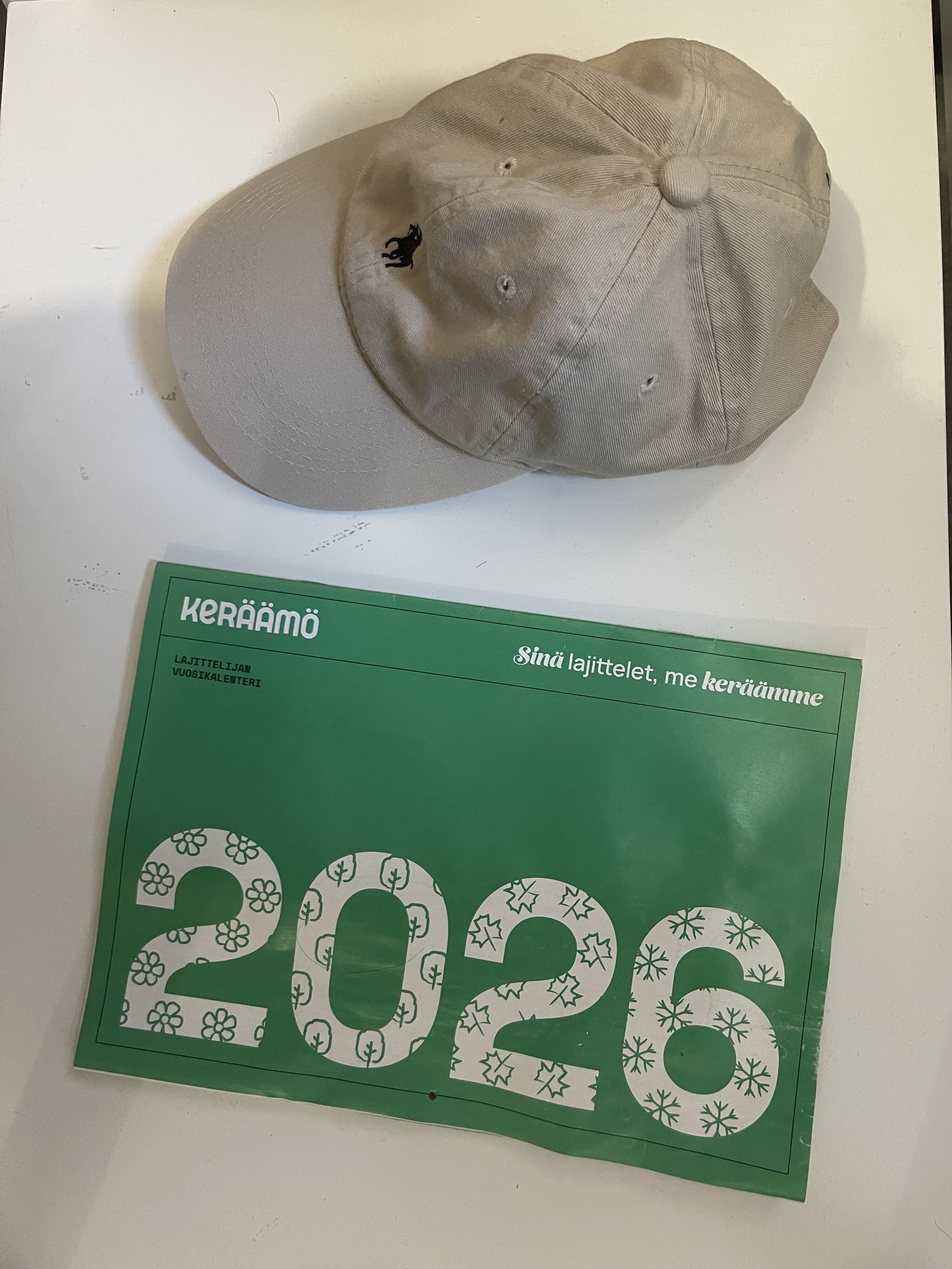paper: (68, 556, 867, 1217)
